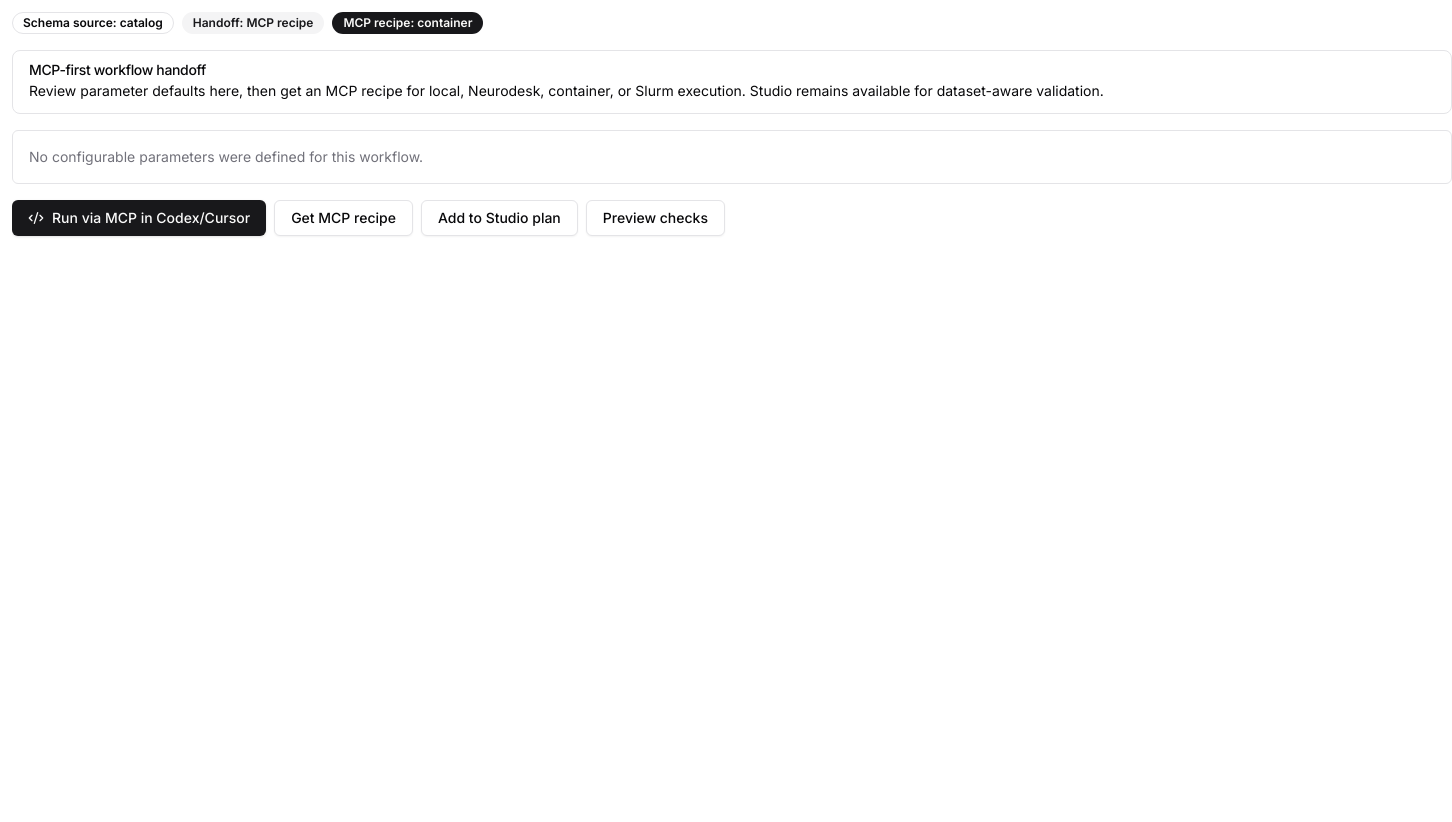
Scenario: <LibraryWorkflowRunner> › renders recipe handoff guidance for long local/container workflows
This screenshot has width=1452, height=822.
Click the button "Preview checks": (655, 218) [586, 200, 725, 236]
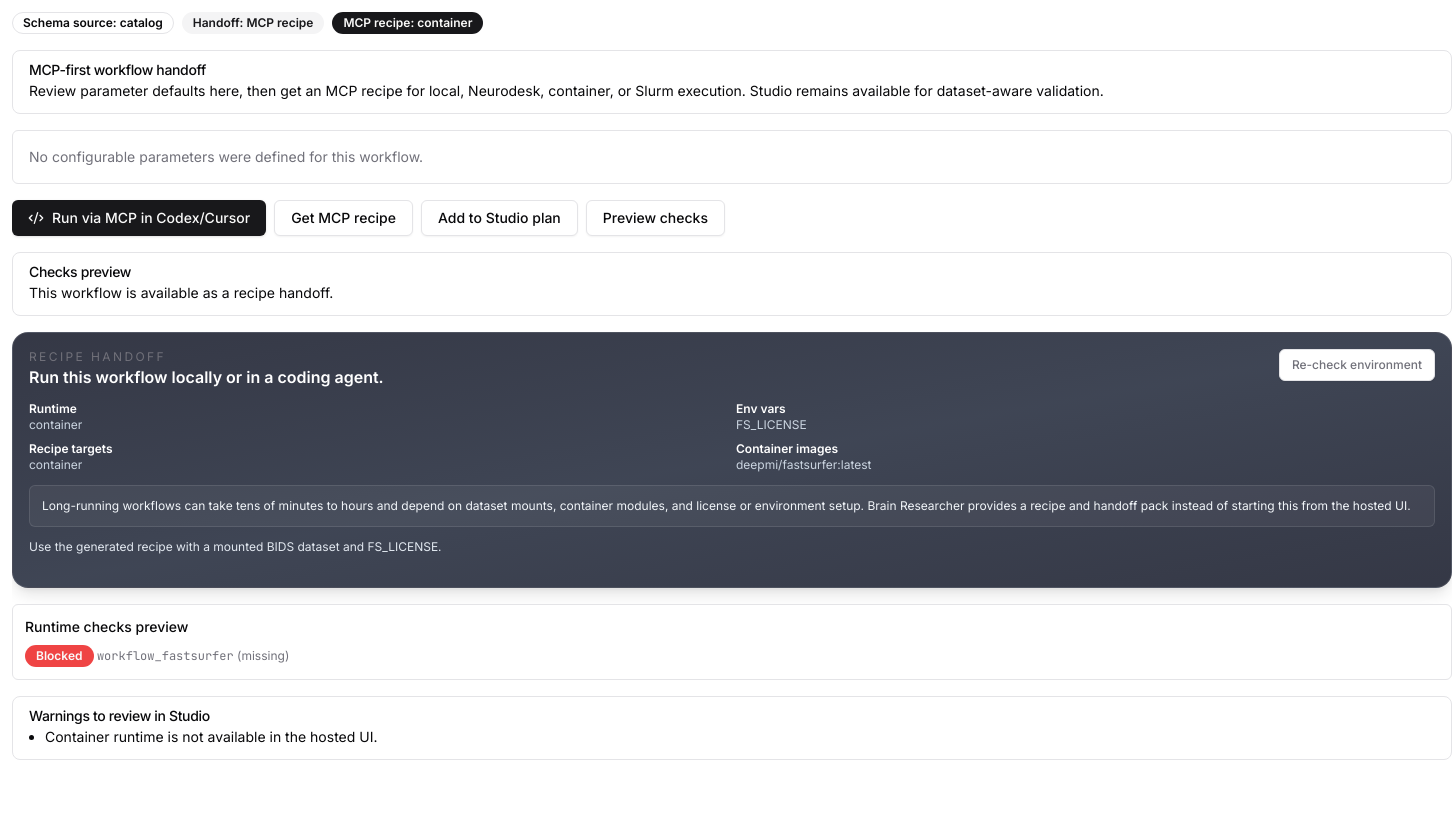
Result: the text "Recipe handoff" is shown at [29, 349, 166, 364]
Result: the text "Run this workflow locally or in a coding agent." is shown at [29, 365, 384, 389]
Result: the text "Long-running workflows can take tens of minutes to hours" is shown at [42, 498, 1411, 513]
